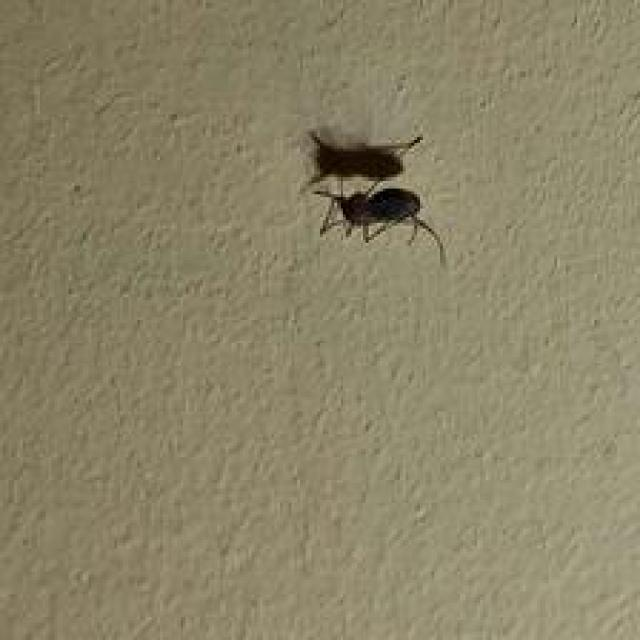Culex: (299, 127, 447, 267)
